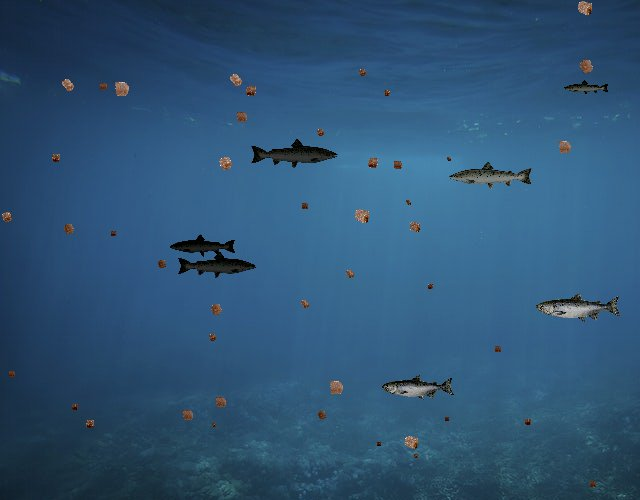Fish: (250, 138, 340, 170), (448, 160, 534, 191), (536, 292, 622, 323), (177, 251, 258, 280), (382, 375, 455, 401), (170, 234, 238, 258), (563, 79, 610, 96)
Pellet: (106, 74, 136, 104), (240, 80, 262, 102), (0, 206, 18, 228), (340, 265, 359, 284), (388, 156, 406, 174), (520, 415, 534, 429), (424, 280, 437, 293), (107, 227, 119, 239), (208, 420, 218, 430)
